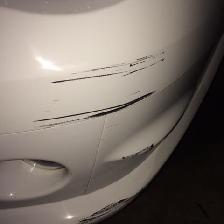bumper_scratch: (37, 45, 173, 162)
